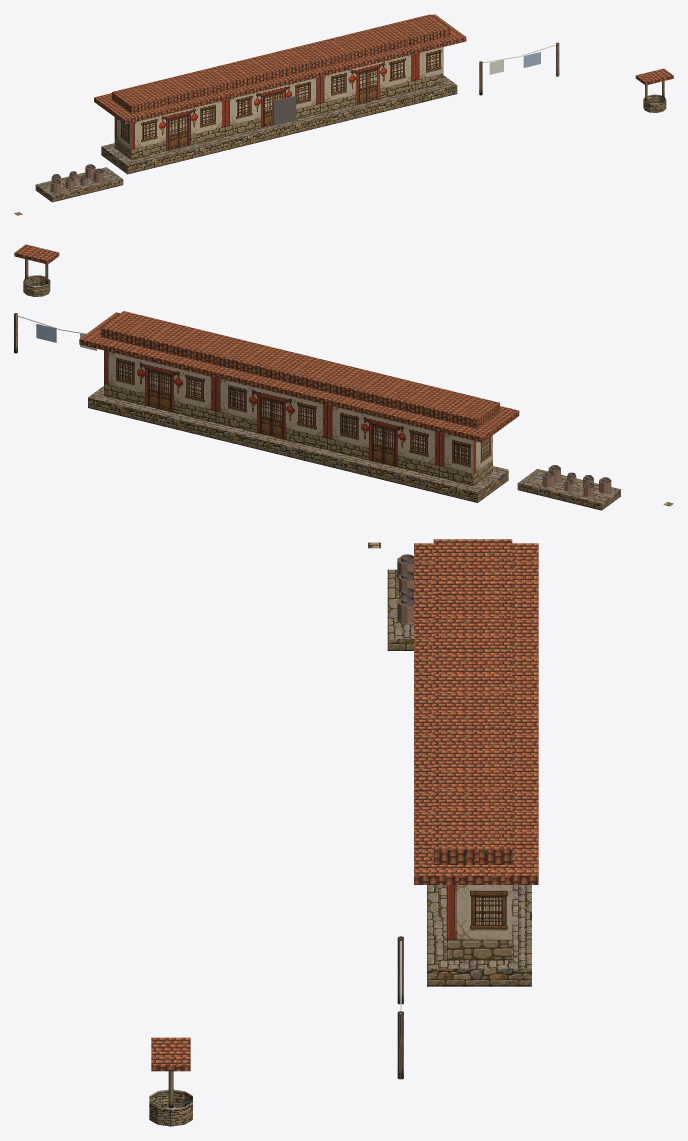
Rendered from st_yard.glb.
3 views of the same model, one above another, from view 1: azimuth 30°, elevation 25°; view 2: azimuth 150°, elevation 25°; view 3: azimuth 270°, elevation 25° (orthographic). The views are drawn at different scales.
Visible parts, largest first — view 1: roof, wall, base, btop, stone, dark, stop, jar, wood; view 2: roof, wall, base, btop, stone, stop, jar; view 3: roof, wall, btop, base, stone, wood, stop, jar.
Part boxes in pixels (box(x1,y1,x2,y2)): roof: box(94, 14, 673, 124); wall: box(114, 47, 443, 159); base: box(101, 85, 457, 174); btop: box(102, 75, 456, 165); stone: box(35, 94, 666, 202); dark: box(52, 95, 663, 183); stop: box(36, 167, 122, 196); jar: box(50, 165, 103, 192); wood: box(479, 42, 664, 101); roof: box(14, 244, 519, 442); wall: box(104, 350, 492, 485); base: box(88, 397, 508, 502); btop: box(88, 386, 508, 492); stone: box(23, 275, 620, 510); stop: box(518, 469, 620, 503); jar: box(542, 466, 611, 496); roof: box(151, 539, 538, 1071); wall: box(446, 885, 512, 960); btop: box(427, 885, 531, 968); base: box(427, 968, 531, 986); stone: box(149, 639, 413, 1126); wood: box(168, 936, 403, 1108); stop: box(387, 569, 413, 638); jar: box(397, 557, 413, 623).
Bounding box in the file's own units: 424 × 44 × 119.
Materials: 13 (8 with a texture image).
